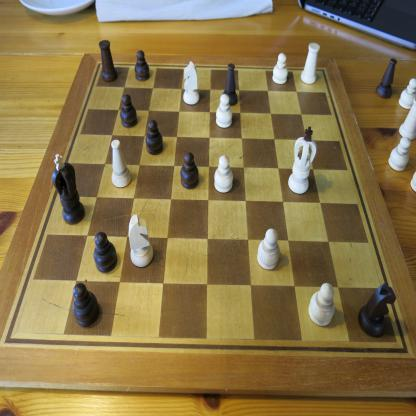black-bishop: (374, 57, 398, 100), (221, 63, 238, 107)
black-king: (52, 154, 86, 226)
black-knight: (357, 282, 397, 339)
black-pawn: (72, 282, 100, 328), (93, 230, 118, 274), (179, 152, 200, 190), (145, 118, 164, 156), (120, 93, 138, 130), (134, 50, 150, 82)
black-rook: (98, 38, 119, 83)
white-bishop: (110, 138, 132, 188)
white-king: (288, 126, 318, 196)
white-knight: (128, 213, 155, 269), (182, 61, 200, 106)
white-pawn: (308, 282, 335, 327), (256, 228, 281, 271), (388, 136, 412, 172), (213, 154, 234, 194), (216, 93, 234, 129), (398, 78, 416, 110), (272, 52, 288, 85)
white-rook: (300, 42, 321, 85), (398, 96, 416, 141)
